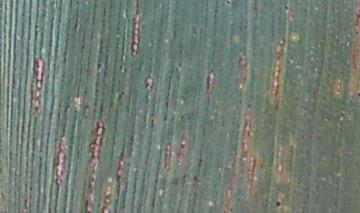tarspot: (273, 198, 285, 211), (220, 1, 233, 7), (282, 4, 291, 12), (119, 90, 126, 98), (355, 90, 360, 99)
